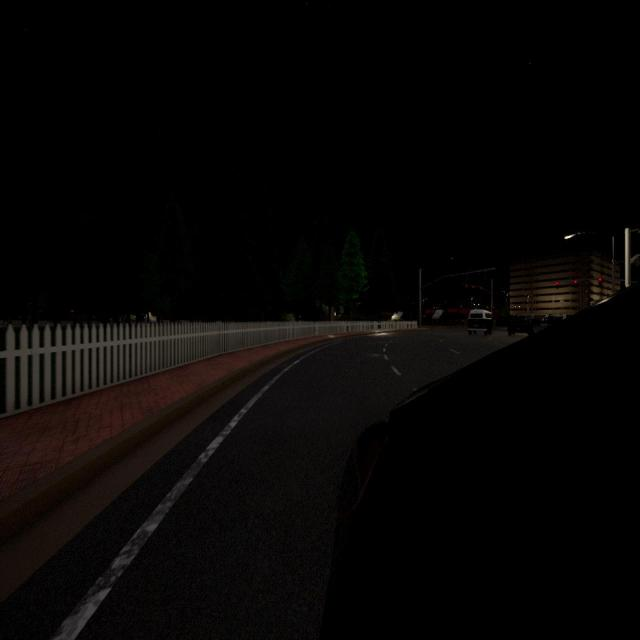Vehicle: (327, 278, 640, 640), (508, 314, 536, 338), (468, 309, 492, 335)
traffic_light: (598, 278, 602, 287), (556, 280, 558, 288), (574, 279, 576, 287), (492, 306, 494, 310), (480, 286, 482, 290), (466, 285, 468, 288), (472, 286, 474, 288)
